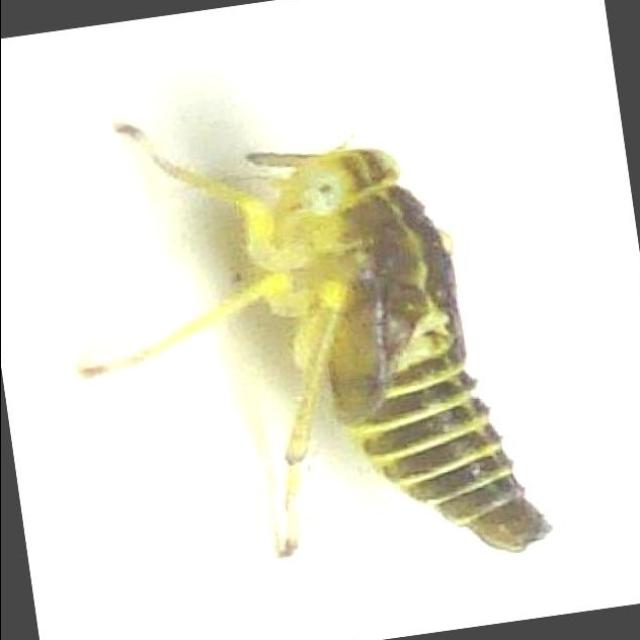green leaf hopper: (85, 125, 548, 557)
